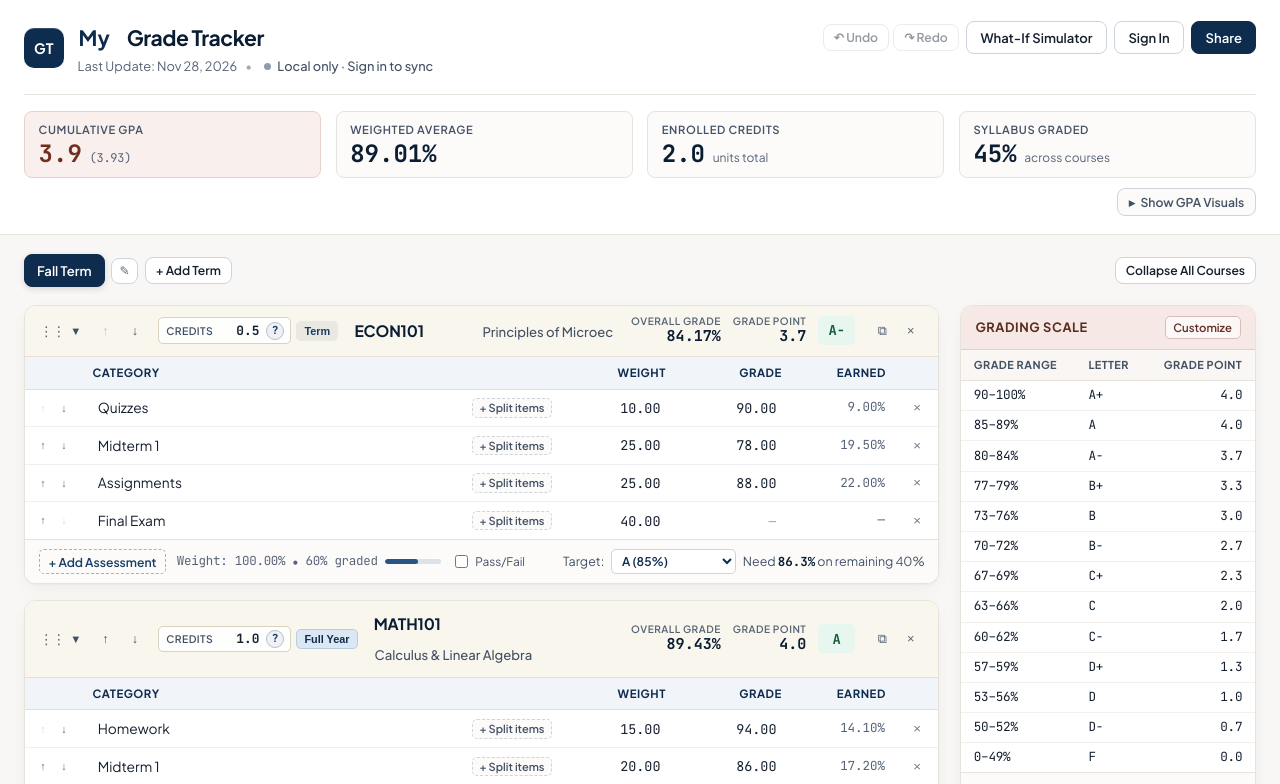
Test: Grade Tracker React Application (M1 + M1.1 + Firebase Cloud Sync) › opens the 1-click Google Sign-In dialog and the unified Share dialog (Milestone 2)
Click the button "Sign In". click: (1149, 38)
box: [1114,21,1184,54]
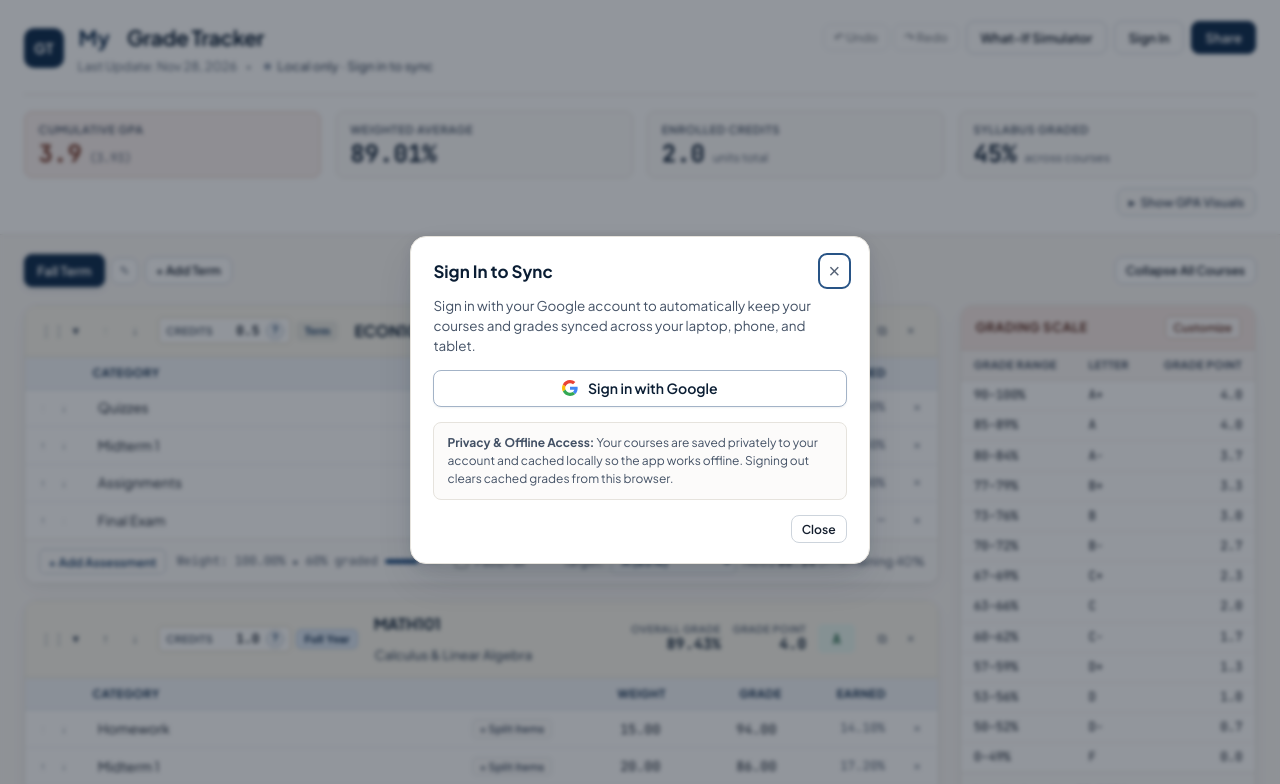
Expected: the button "Sign in with Google" is shown, [433,370,847,407]
Click the button "Close". click: (819, 529)
box: [791,515,847,543]
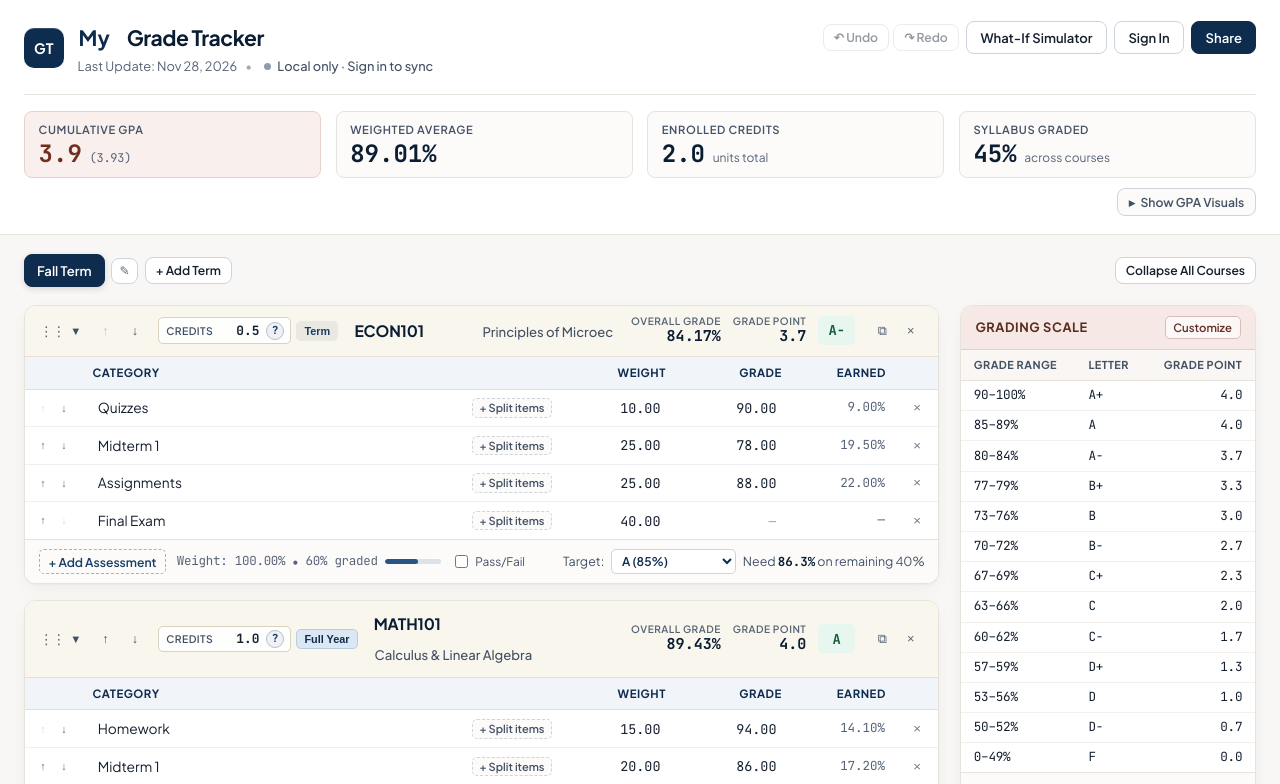
Click the button "Share". click: (1224, 38)
box: [1192,21,1256,54]
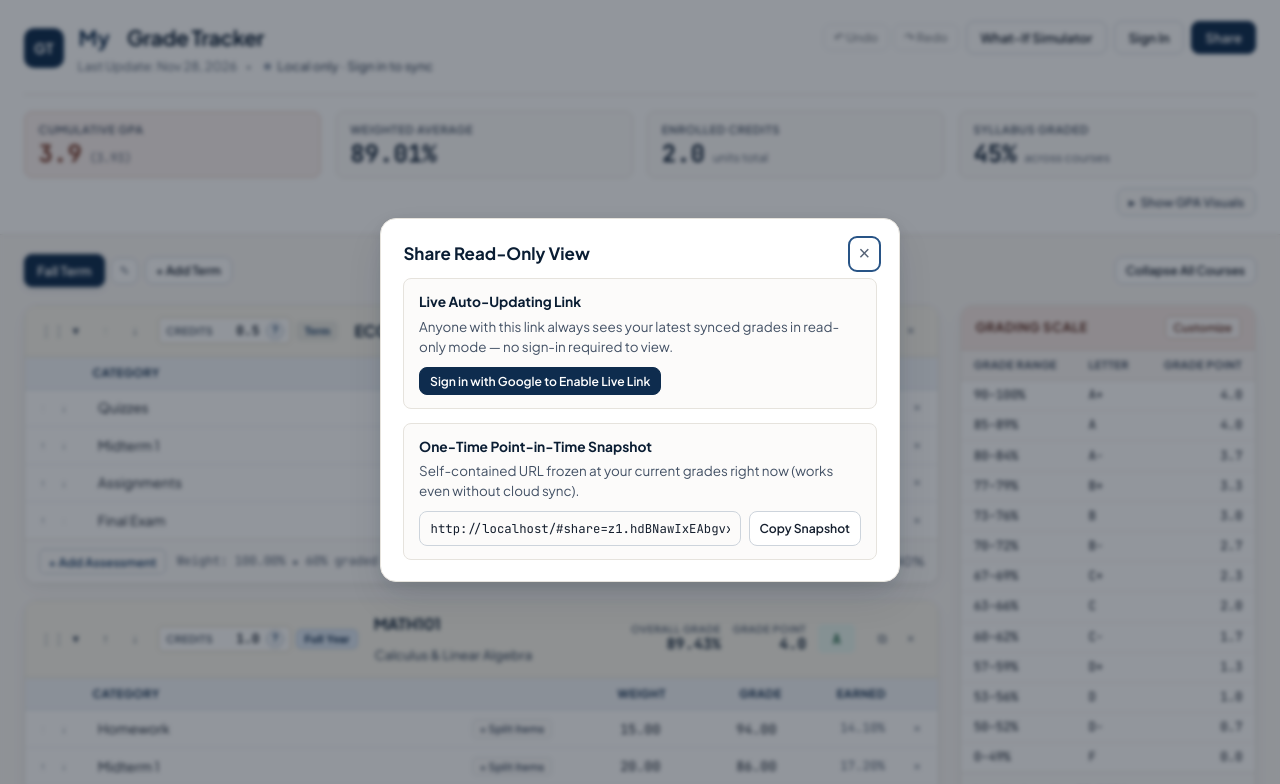
Expected: the text "Live Auto-Updating Link" is shown, [419,292,581,313]
Expected: the text "One-Time Point-in-Time Snapshot" is shown, [419,437,652,457]
